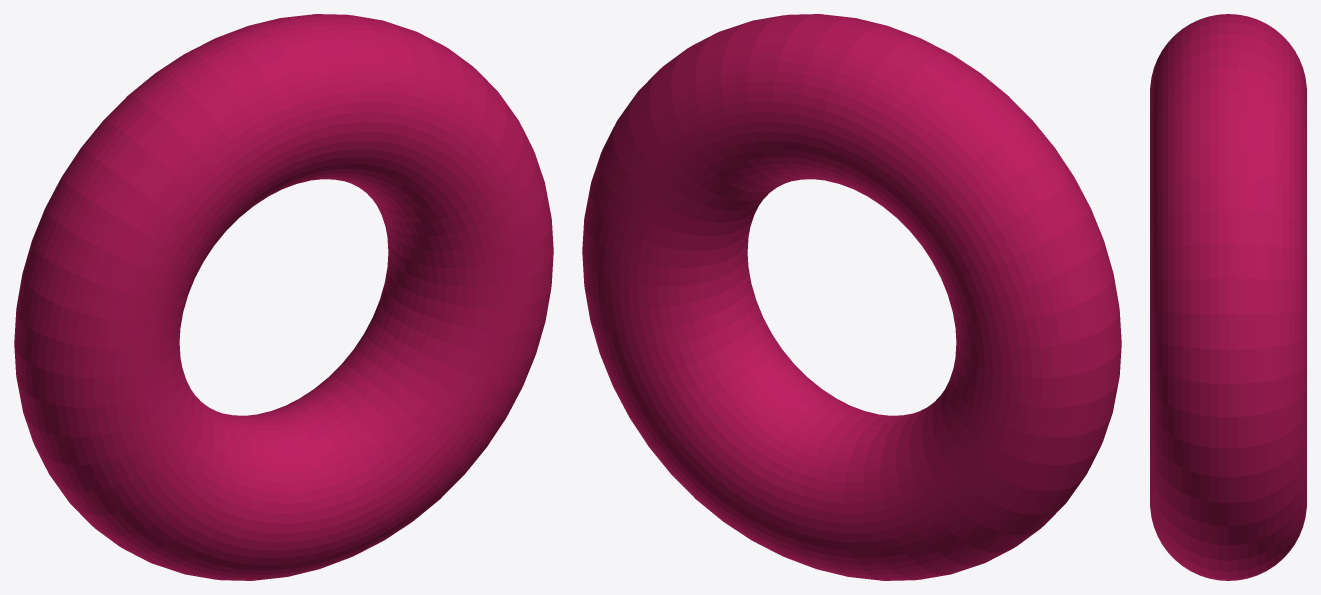
The picture shows the model from 3 angles, left to right: view 1: azimuth 30°, elevation 25°; view 2: azimuth 150°, elevation 25°; view 3: azimuth 270°, elevation 25°; orthographic projection. The views are drawn at different scales.
Parts seen in each view (by area): view 1: world; view 2: world; view 3: world.
Boxes of the visible parts, box(x1,y1,x2,y2) form: world: box(14, 14, 553, 580); world: box(582, 14, 1121, 580); world: box(1150, 14, 1306, 580).
Size of the model in its own units: 32.27 by 32.2 by 8.92.
